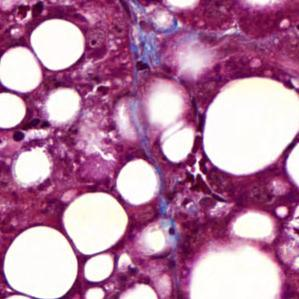steatosis: (4, 224, 81, 299), (61, 192, 130, 256), (31, 17, 85, 71), (0, 92, 25, 129)
